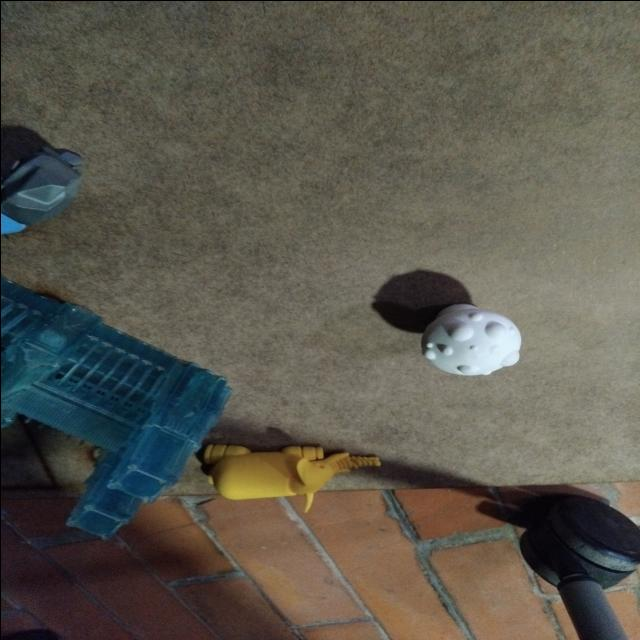Hongo: (401, 298, 533, 386)
